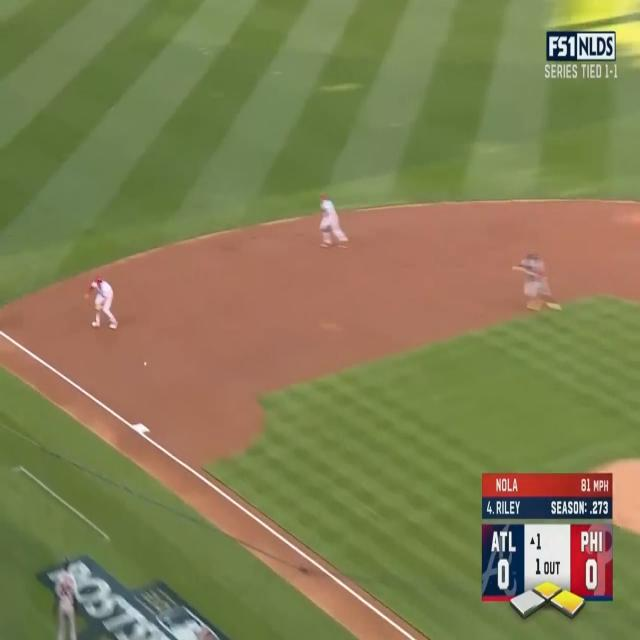baseball: (144, 362, 147, 366)
